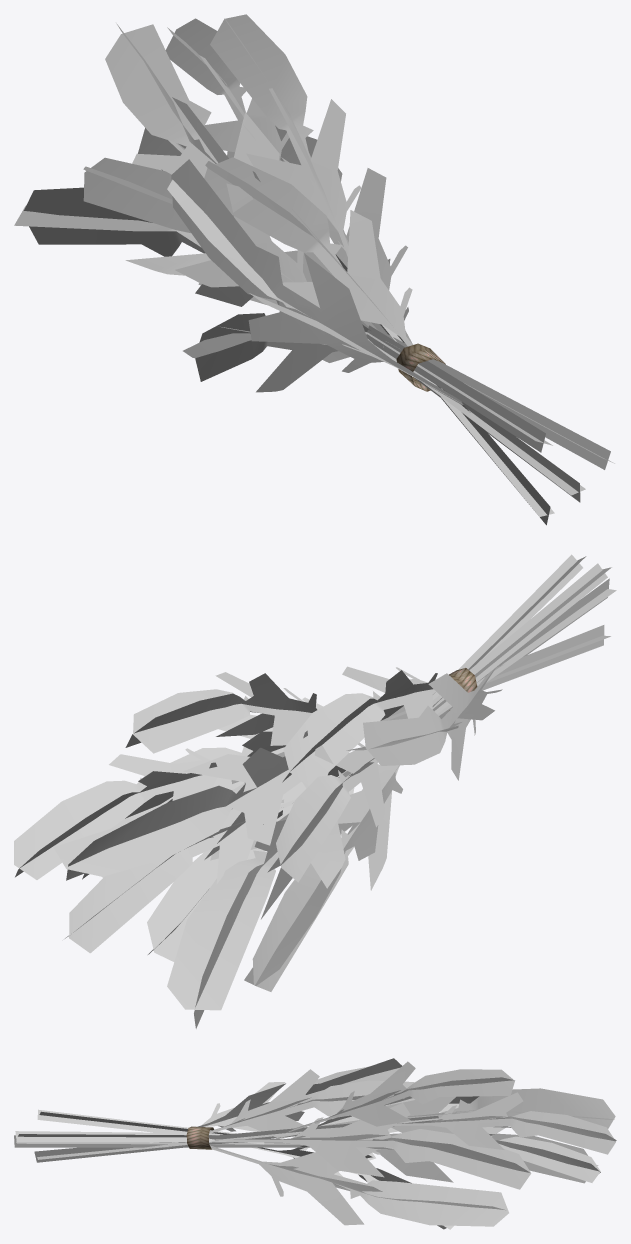
The model's file is village_ambrosia_02.fbx.
3 views of the same model, one above another, from view 1: azimuth 30°, elevation 25°; view 2: azimuth 150°, elevation 25°; view 3: azimuth 270°, elevation 25° (orthographic). The views are drawn at different scales.
Parts seen in each view (by area): view 1: village_ambrosia_02; view 2: village_ambrosia_02; view 3: village_ambrosia_02.
Boxes of the visible parts, box(x1,y1,x2,y2) form: village_ambrosia_02: box(14, 14, 614, 525); village_ambrosia_02: box(14, 554, 616, 1028); village_ambrosia_02: box(14, 1058, 616, 1229).
Size of the model in its own units: 22.89 by 30.34 by 91.84.
